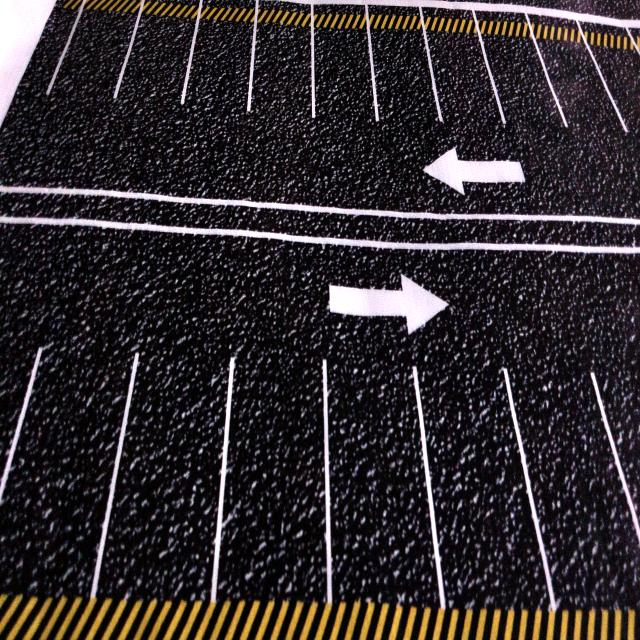slots: (0, 320, 132, 596), (98, 328, 227, 599), (510, 341, 640, 608), (329, 320, 438, 604), (422, 365, 547, 607), (219, 340, 325, 600), (428, 30, 502, 152), (538, 39, 623, 141), (371, 31, 436, 158), (483, 34, 559, 142), (50, 10, 137, 104), (119, 14, 195, 112), (185, 18, 252, 129), (315, 28, 375, 135), (251, 24, 311, 129), (593, 46, 640, 131)
